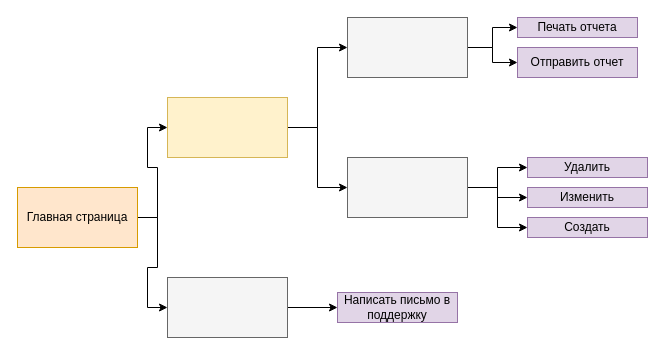
Image size: 665x355. Some labels were removed from this diagram. The shapes that lost their labels are listed below. From the top down, each one's centre as x and y in pixels, then its label:
the point at 407,47: Поиск сотрудника
the point at 227,127: Вход
the point at 407,187: Редактирование
the point at 227,307: Связь с тех. поддержкой
